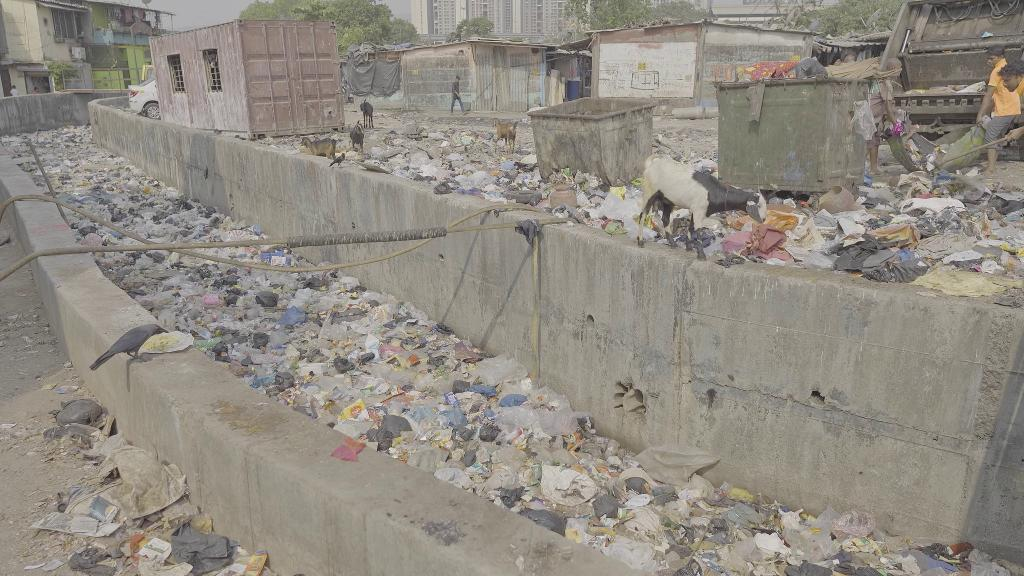dustbin: (710, 76, 875, 192), (528, 96, 655, 183)
garbage: (595, 490, 685, 560), (163, 518, 254, 572), (817, 235, 924, 277), (635, 443, 714, 484), (714, 228, 790, 261), (895, 190, 970, 222), (470, 352, 527, 385), (52, 396, 107, 429), (81, 493, 131, 528), (365, 414, 411, 446), (333, 397, 376, 426), (494, 407, 538, 429), (439, 401, 469, 427), (259, 247, 292, 268), (330, 354, 357, 378), (277, 304, 305, 326), (271, 369, 297, 392), (362, 335, 381, 363), (250, 326, 271, 350), (256, 292, 276, 308), (431, 181, 451, 197), (202, 289, 219, 307)
